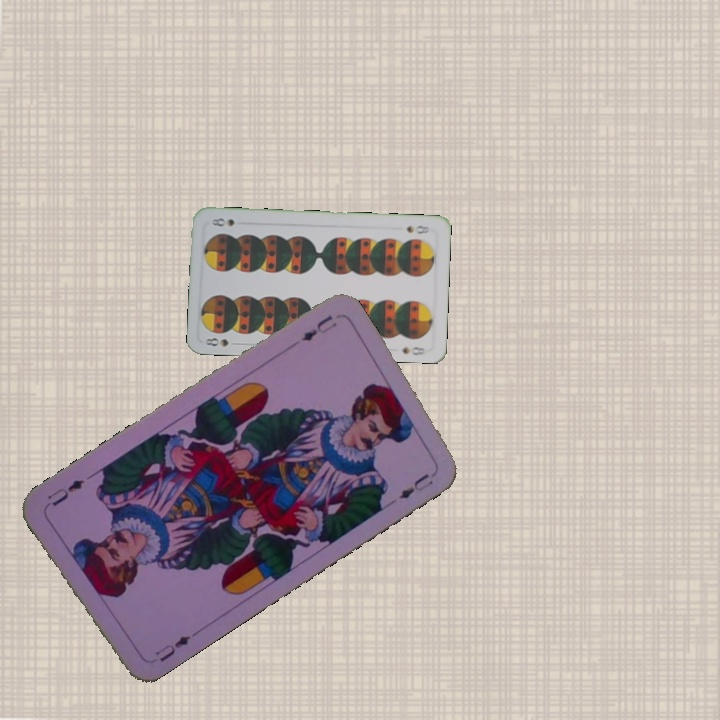EU: (151, 631, 193, 665), (297, 311, 340, 344)
S8: (202, 334, 242, 349), (403, 221, 432, 237)
